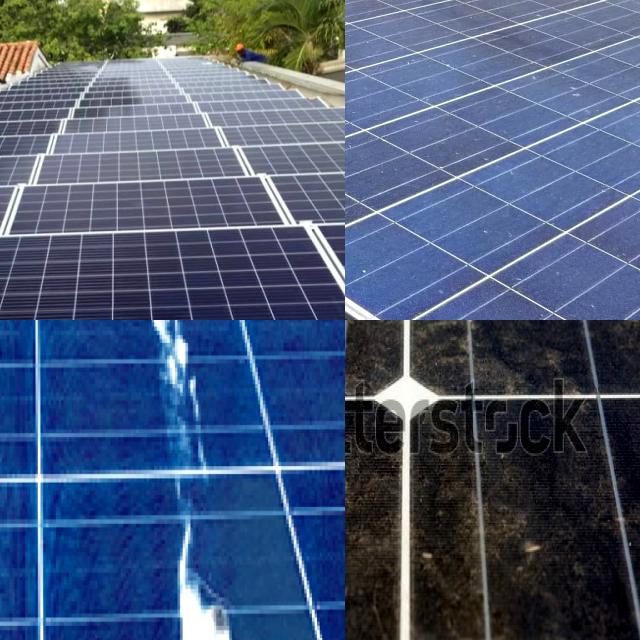bird: (142, 320, 236, 640)
crack: (0, 225, 345, 320), (0, 167, 327, 236), (0, 143, 147, 200), (246, 168, 345, 235), (36, 131, 262, 158), (233, 137, 345, 185)
dust: (417, 405, 532, 640), (559, 404, 633, 640), (423, 320, 581, 416), (431, 140, 566, 234), (345, 0, 460, 105), (345, 404, 390, 640), (345, 400, 389, 640), (485, 0, 602, 72), (415, 320, 640, 357), (345, 123, 419, 231), (345, 405, 379, 640), (345, 320, 419, 422), (345, 320, 410, 418), (574, 320, 640, 415), (345, 26, 406, 125), (345, 320, 434, 352)
